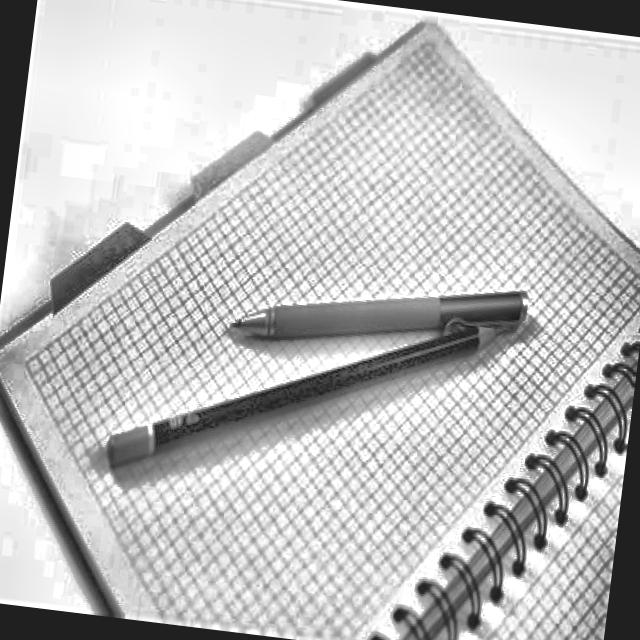Notebook: (498, 291, 638, 640)
Pen: (229, 291, 526, 343)
